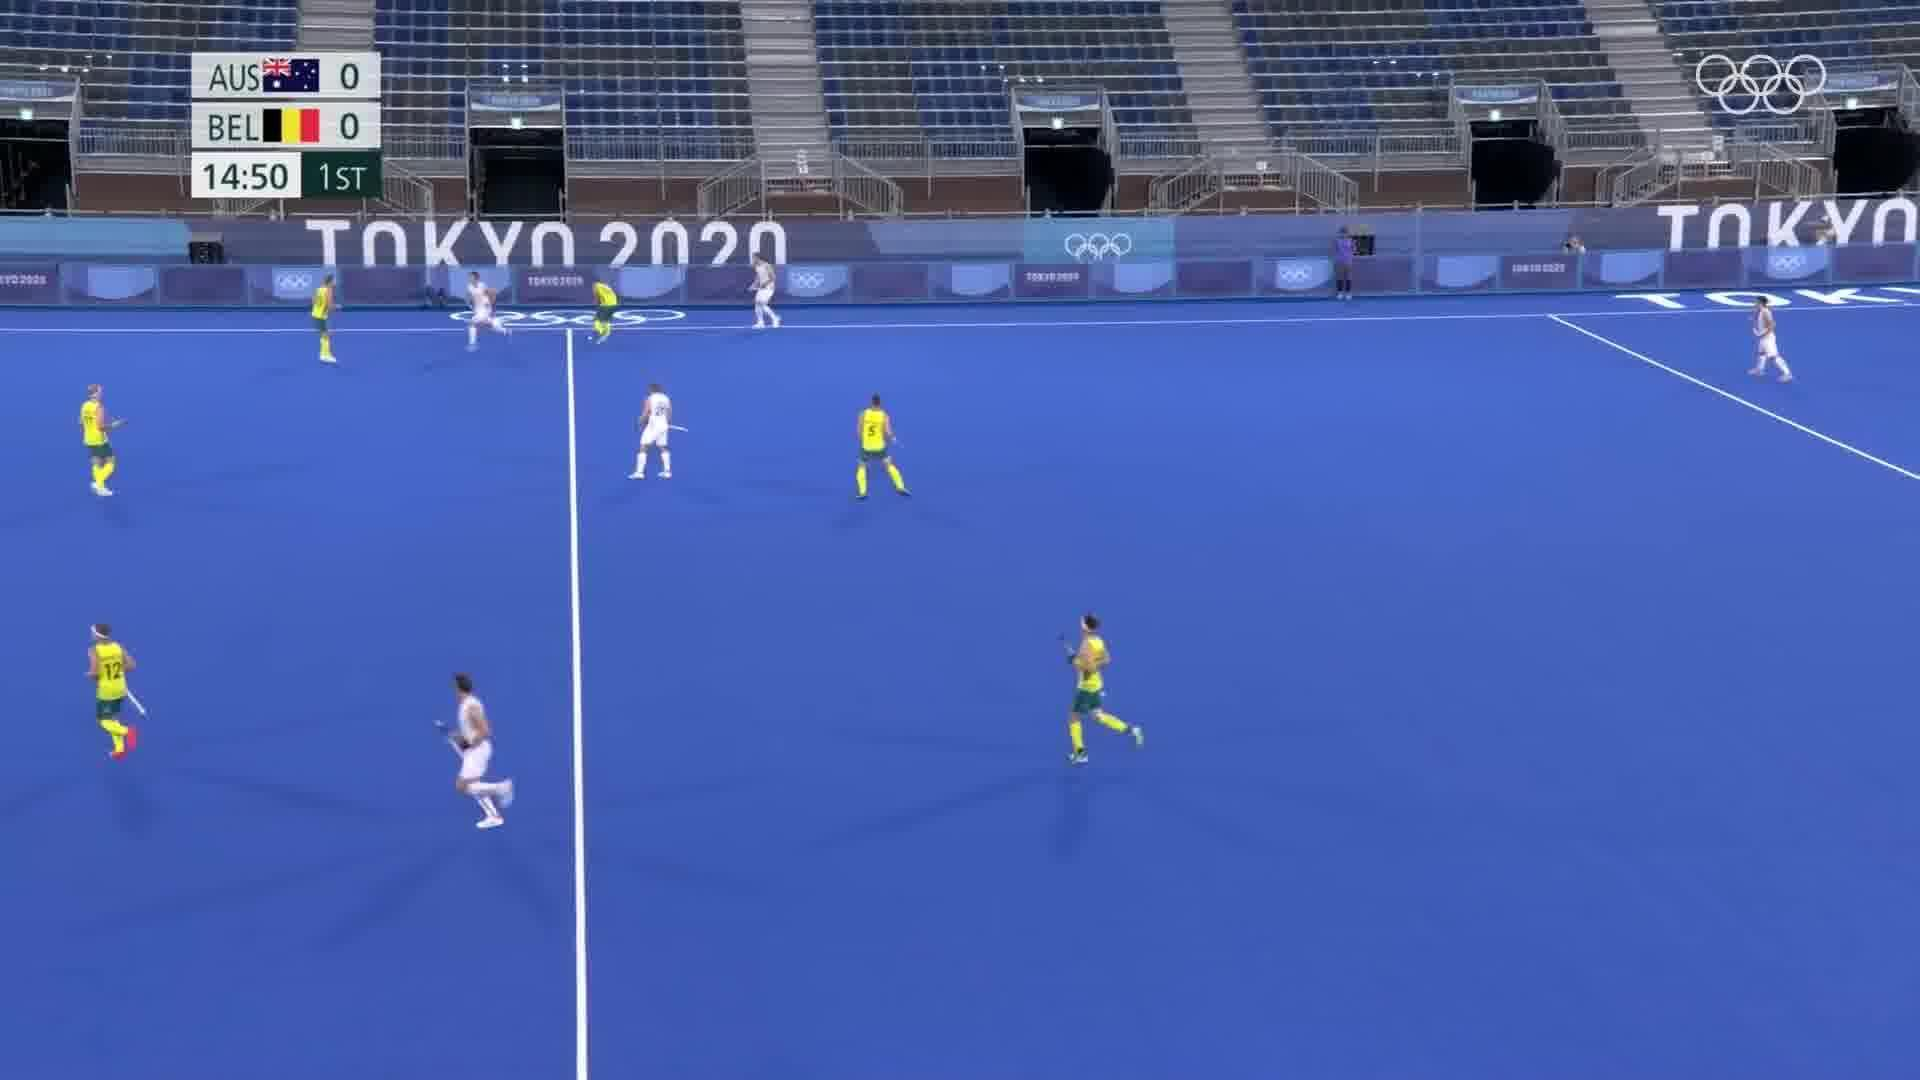ball: (585, 333, 598, 343)
